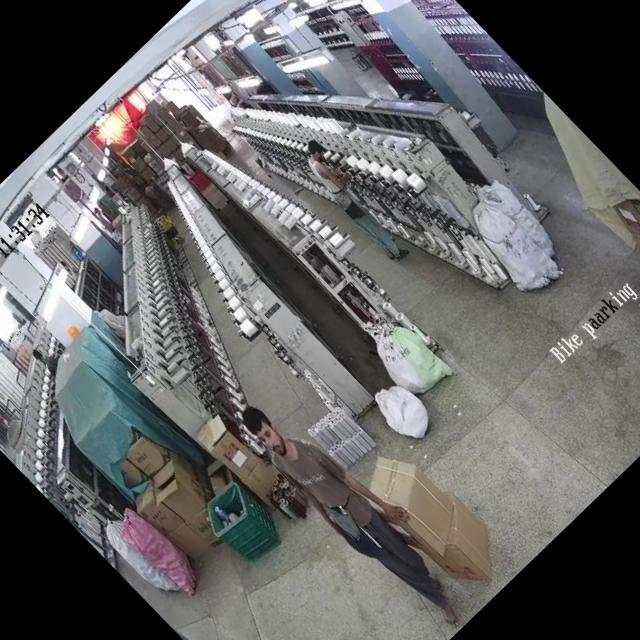person: (235, 390, 457, 617), (284, 130, 422, 271)
